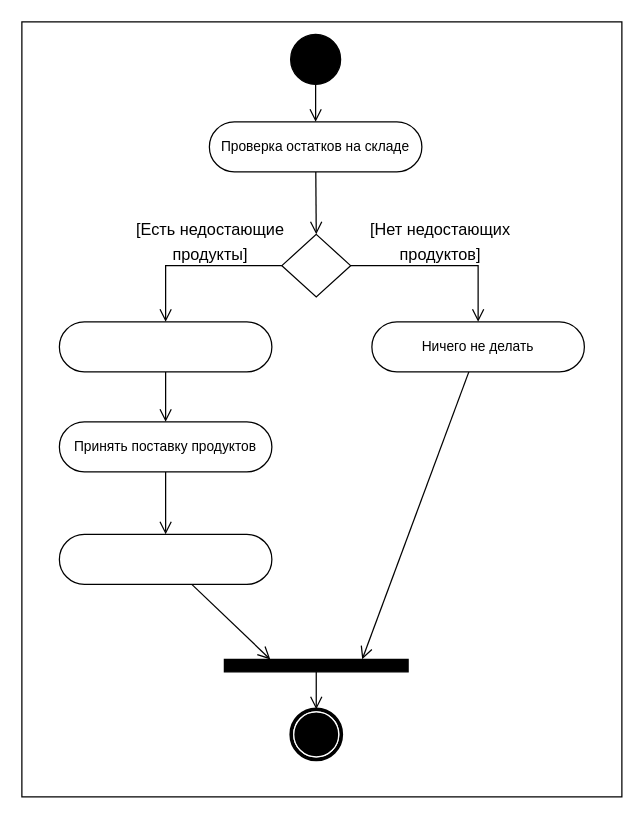
The diagram is 644 pixels wide and 819 high, and some of its shapes have lost their labels. Each missing label, with the box of its shape:
Заказать недостающие продукты: (58, 321, 272, 372)
Зарегистрировать принятые продукты: (58, 533, 272, 584)
